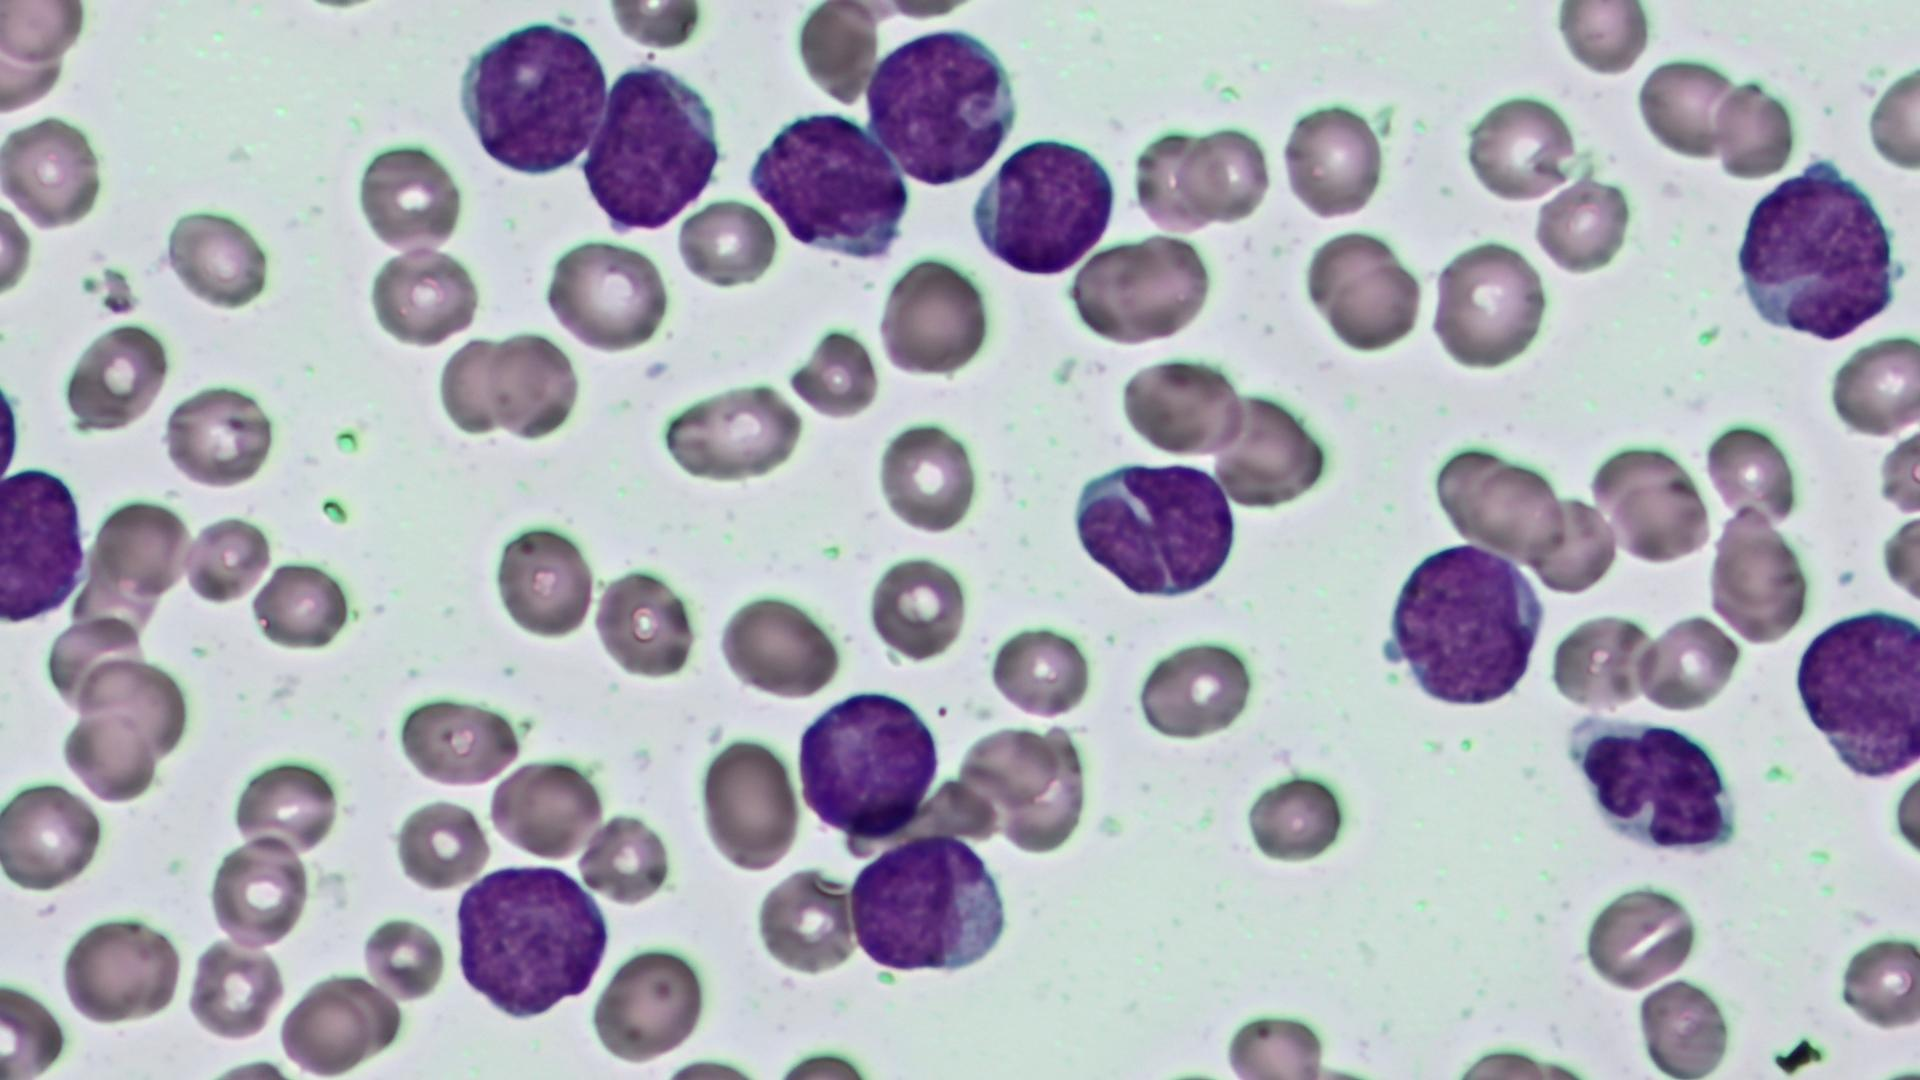RBC: (1064, 235, 1215, 347), (1429, 236, 1548, 375), (655, 375, 804, 484), (698, 733, 803, 874), (1209, 390, 1331, 512), (545, 236, 669, 355), (1276, 95, 1389, 225), (589, 942, 707, 1065), (59, 913, 183, 1029), (876, 252, 988, 380), (713, 589, 843, 699), (1114, 353, 1246, 458), (1582, 880, 1702, 993), (353, 137, 465, 257), (363, 243, 483, 352), (393, 690, 524, 790), (1131, 634, 1255, 740), (491, 520, 593, 642), (161, 381, 276, 491), (865, 549, 973, 665), (0, 775, 105, 894), (61, 322, 170, 435), (1462, 92, 1572, 206), (3, 112, 105, 231), (874, 418, 977, 537), (489, 754, 601, 862), (752, 865, 857, 980), (206, 833, 310, 949), (162, 203, 272, 313), (76, 653, 190, 758), (592, 564, 694, 682), (1634, 54, 1742, 164), (1634, 609, 1742, 716), (91, 495, 193, 608), (1240, 767, 1354, 866), (1545, 608, 1654, 712), (1530, 171, 1635, 277), (232, 756, 340, 858), (1701, 418, 1800, 527), (1319, 251, 1424, 352), (998, 735, 1089, 852), (185, 934, 284, 1040), (1130, 120, 1222, 233), (487, 331, 582, 440), (1611, 465, 1712, 568), (986, 622, 1092, 719), (794, 0, 884, 112), (674, 194, 778, 290), (1178, 117, 1269, 225), (392, 793, 491, 891), (1826, 334, 1920, 436), (248, 559, 352, 651), (956, 724, 1062, 815), (1710, 71, 1797, 179), (276, 980, 376, 1073), (578, 808, 673, 905), (61, 711, 158, 802), (179, 512, 272, 607), (789, 322, 878, 419), (1836, 928, 1920, 1029), (359, 910, 446, 1005), (435, 334, 510, 440), (1552, 1, 1652, 78), (1862, 61, 1917, 177), (0, 978, 65, 1073), (1, 0, 90, 66), (600, 0, 708, 50), (0, 186, 36, 314), (1880, 761, 1917, 872)
WBC: (1379, 533, 1556, 717), (1730, 166, 1905, 345), (861, 22, 1025, 189), (578, 57, 729, 235), (452, 860, 613, 1025), (454, 15, 613, 181), (746, 103, 914, 258), (1065, 455, 1242, 601), (844, 829, 1015, 980), (1572, 717, 1746, 861), (1791, 603, 1920, 782), (967, 136, 1122, 284), (793, 688, 943, 837), (0, 462, 88, 626)
